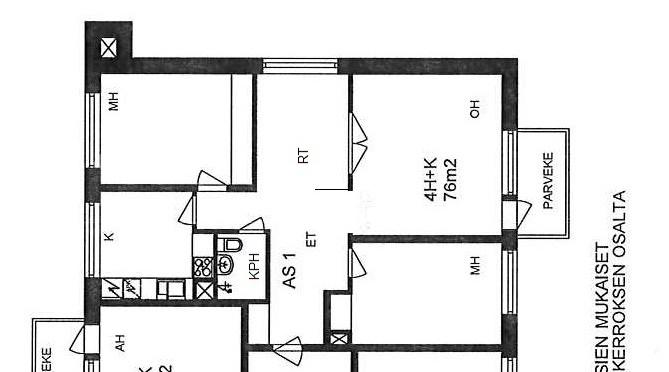bathroom: (217, 232, 268, 300)
door: (63, 322, 101, 358), (497, 196, 532, 232), (345, 110, 372, 145), (194, 168, 229, 195), (271, 343, 310, 367), (343, 247, 368, 281), (176, 192, 199, 228), (345, 142, 368, 177), (270, 335, 302, 354), (237, 215, 266, 235)
perimeter: (83, 55, 522, 355)
window: (259, 54, 341, 80), (79, 89, 103, 175), (80, 199, 103, 285), (498, 127, 520, 199), (499, 245, 518, 320)
